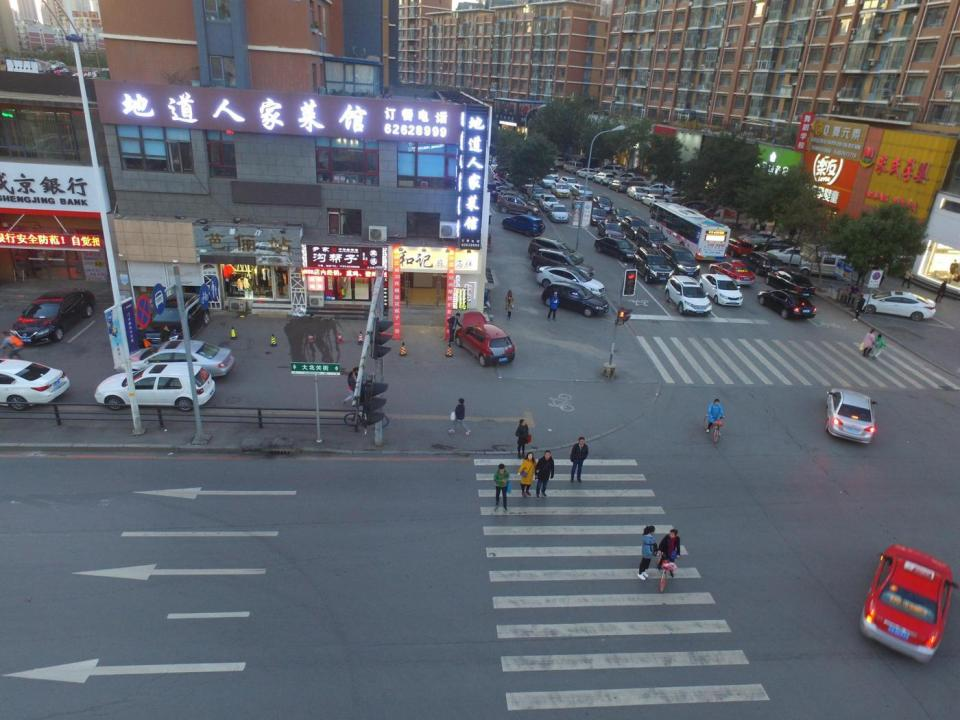bus: (646, 200, 732, 262)
car: (858, 539, 960, 662), (95, 361, 216, 413), (8, 282, 98, 344), (0, 353, 71, 417), (124, 342, 233, 381), (141, 292, 213, 347), (454, 313, 518, 368), (824, 384, 878, 443), (540, 279, 609, 318), (861, 291, 939, 321), (537, 265, 605, 298), (531, 248, 595, 283), (662, 274, 712, 318), (757, 286, 818, 322), (528, 236, 584, 269), (698, 274, 744, 308), (634, 246, 674, 284), (765, 270, 815, 298), (708, 260, 758, 287), (766, 246, 826, 266), (740, 251, 788, 275), (593, 236, 639, 260), (500, 214, 546, 237), (635, 224, 670, 251), (496, 195, 540, 216), (737, 230, 787, 248), (500, 190, 537, 212), (754, 237, 800, 254), (620, 214, 650, 239), (723, 236, 757, 258), (680, 200, 718, 218), (671, 196, 712, 212), (698, 207, 738, 223), (597, 220, 626, 241), (492, 188, 523, 205), (659, 192, 698, 205), (482, 180, 510, 198), (610, 208, 635, 227), (642, 183, 675, 197), (547, 204, 570, 223), (591, 195, 614, 214), (495, 185, 523, 200), (538, 194, 561, 212), (570, 194, 593, 212), (625, 176, 656, 189), (641, 194, 667, 209), (607, 179, 633, 193), (590, 206, 608, 226), (592, 171, 616, 186), (552, 181, 571, 199), (625, 185, 649, 199), (558, 176, 580, 191), (572, 184, 594, 199), (536, 173, 556, 188), (575, 168, 598, 180), (529, 184, 546, 200), (617, 173, 641, 183), (548, 154, 566, 167), (522, 175, 535, 190), (546, 166, 559, 181)
truck: (710, 210, 751, 230)
van: (800, 251, 859, 282), (662, 243, 701, 277), (591, 164, 624, 177), (563, 159, 584, 175)
